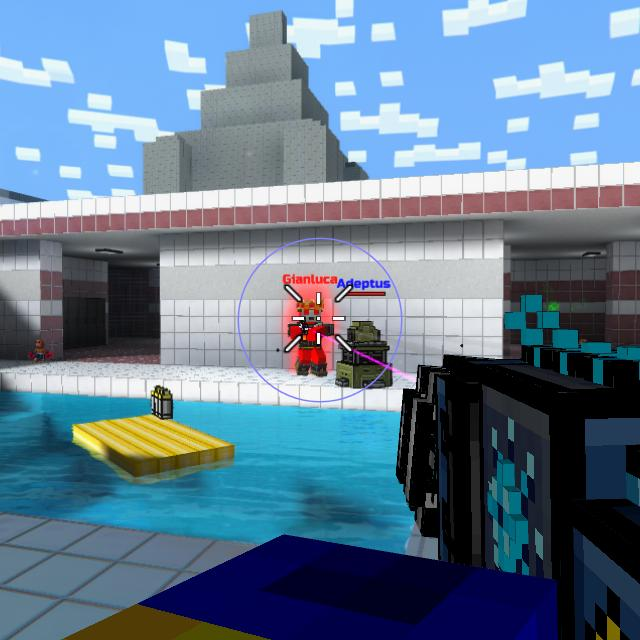Enemy: (287, 302, 334, 378)
